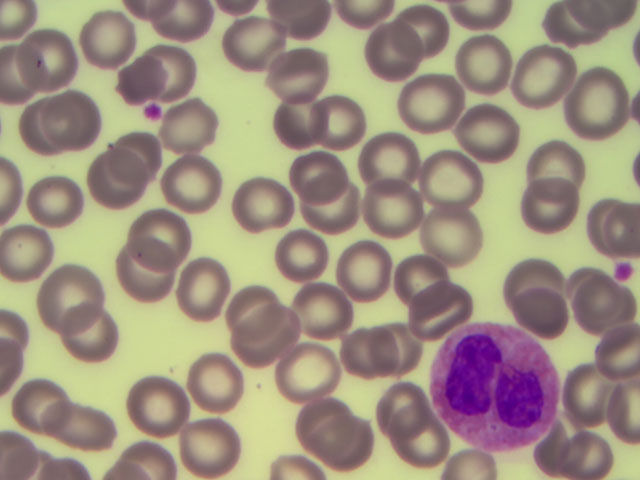Platelets: (613, 259, 636, 282), (139, 101, 161, 118)
RBC: (53, 392, 112, 455), (8, 379, 69, 436), (174, 260, 235, 317), (118, 245, 179, 302), (132, 207, 193, 264), (90, 158, 151, 215), (108, 133, 169, 190), (166, 96, 227, 153), (153, 45, 214, 102), (122, 48, 183, 105), (82, 14, 143, 71), (167, 158, 228, 215), (226, 175, 287, 232), (288, 145, 349, 202), (299, 183, 360, 240), (319, 90, 380, 147), (266, 92, 327, 149), (269, 46, 330, 103), (230, 18, 291, 75), (364, 26, 425, 83), (389, 5, 450, 62), (405, 71, 466, 128), (454, 99, 515, 156), (455, 33, 516, 90), (514, 50, 575, 107), (565, 73, 626, 130), (530, 133, 591, 190), (521, 180, 582, 237), (579, 200, 640, 257), (504, 251, 565, 308), (509, 280, 570, 337), (566, 270, 627, 327), (579, 324, 640, 381), (561, 363, 622, 420), (558, 423, 619, 480), (388, 418, 449, 475), (380, 369, 441, 426), (309, 414, 370, 471), (290, 392, 351, 449), (284, 340, 345, 397), (233, 312, 294, 369), (222, 279, 283, 336), (292, 283, 353, 340), (417, 146, 478, 203), (353, 133, 414, 190), (362, 177, 423, 234), (424, 209, 485, 266), (396, 247, 457, 304), (410, 282, 471, 339), (378, 315, 439, 372), (332, 326, 393, 383), (334, 238, 395, 295), (269, 228, 330, 285), (183, 418, 244, 475), (112, 423, 173, 480), (20, 30, 77, 89), (45, 91, 102, 150), (20, 98, 77, 157), (28, 169, 85, 228), (3, 226, 60, 285), (49, 266, 106, 325), (70, 304, 127, 363), (132, 379, 189, 438), (187, 352, 244, 411), (538, 1, 609, 45)
WBC: (430, 333, 566, 451)
